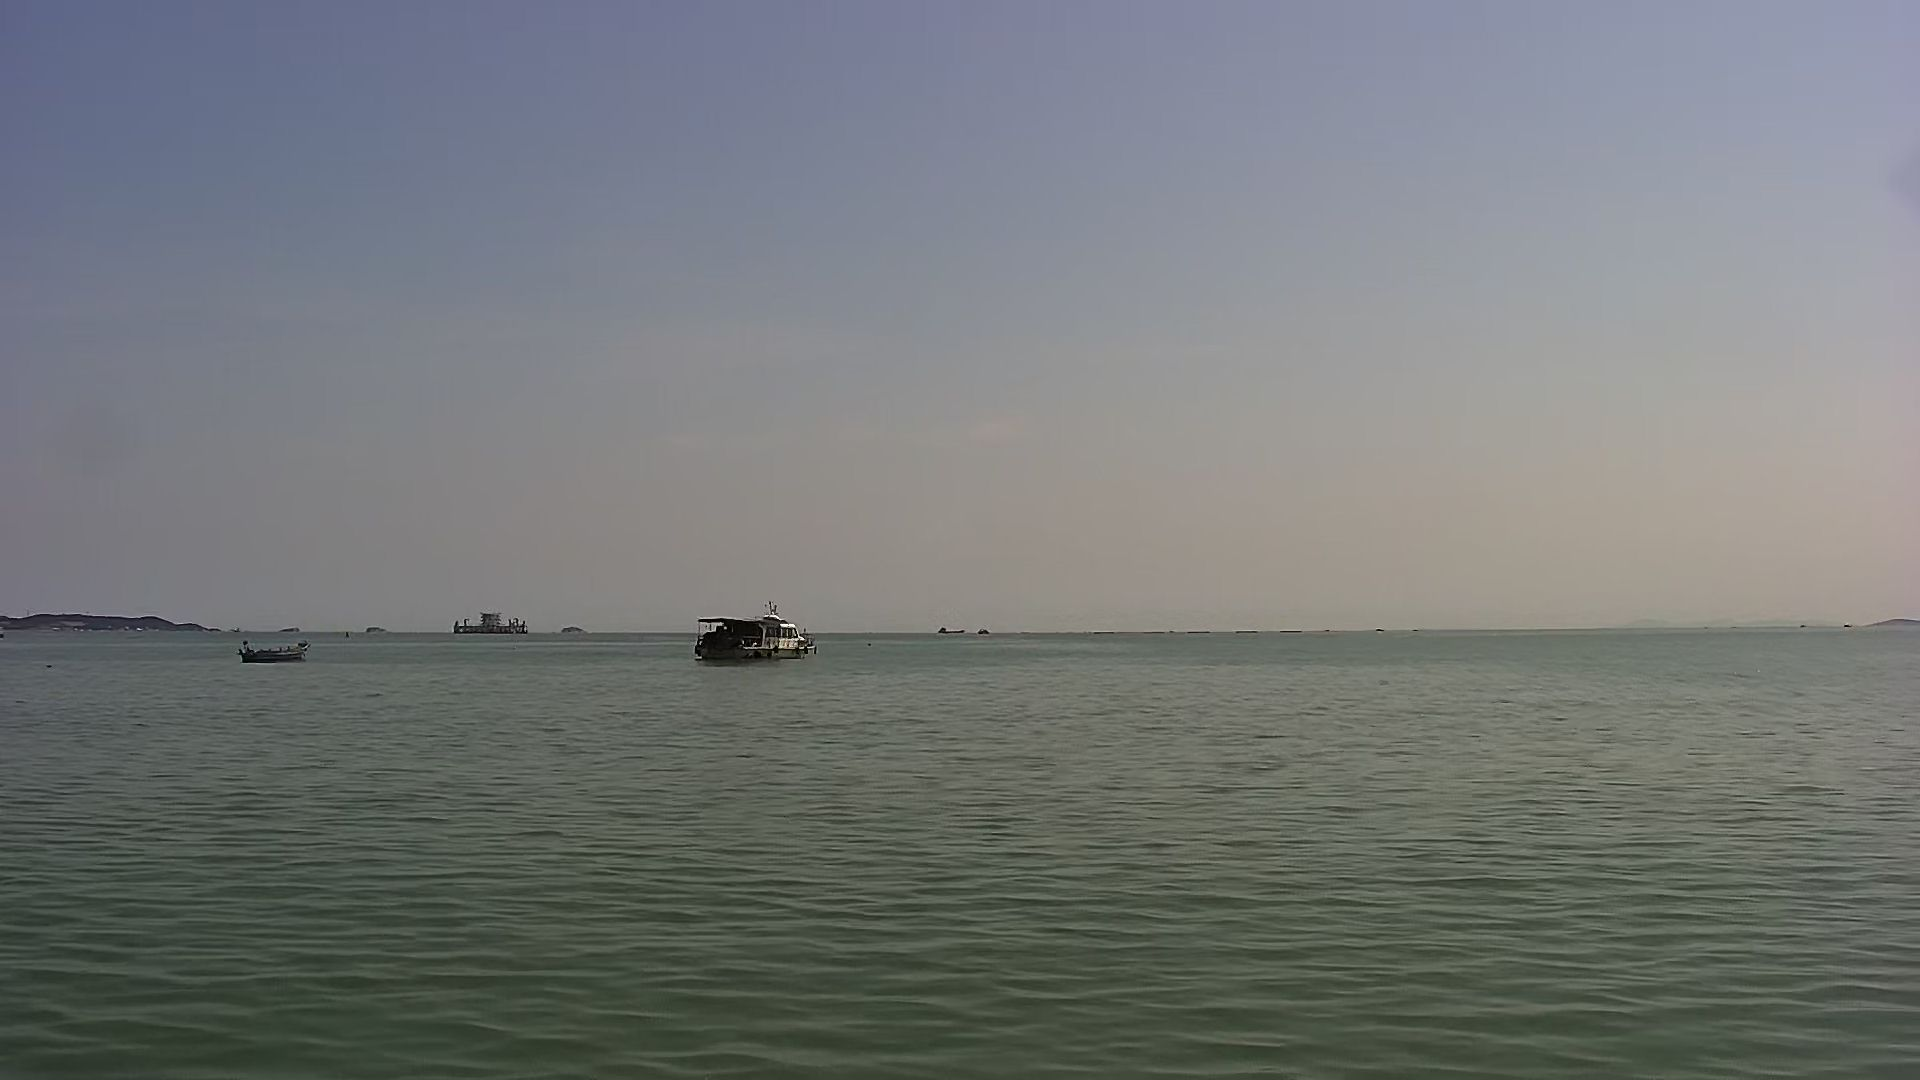boat: (229, 637, 319, 665)
platform: (444, 611, 531, 637)
ship: (692, 604, 822, 665)
